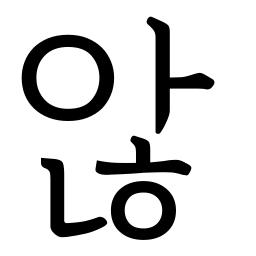Gaji: (142, 65, 187, 105)
